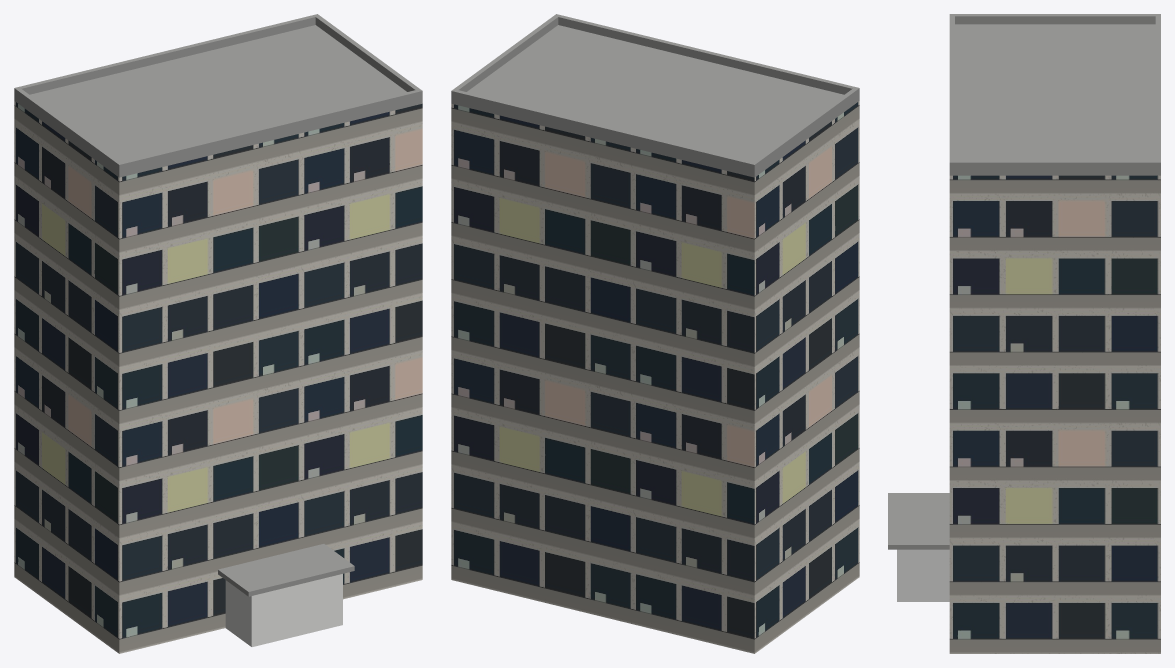
File: apartment_mid.glb
3 views of the same model, side by side, from view 1: azimuth 30°, elevation 25°; view 2: azimuth 150°, elevation 25°; view 3: azimuth 270°, elevation 25° (orthographic).
Visible parts, largest first — view 1: apartment_mid; view 2: apartment_mid; view 3: apartment_mid.
Boxes of the visible parts, x1,y1,x2,y2 form: apartment_mid: [14, 14, 422, 653]; apartment_mid: [451, 14, 859, 653]; apartment_mid: [888, 14, 1160, 653].
Bounding box in the file's own units: 20 × 30.8 × 15.5.
3 materials, 1 textured.
